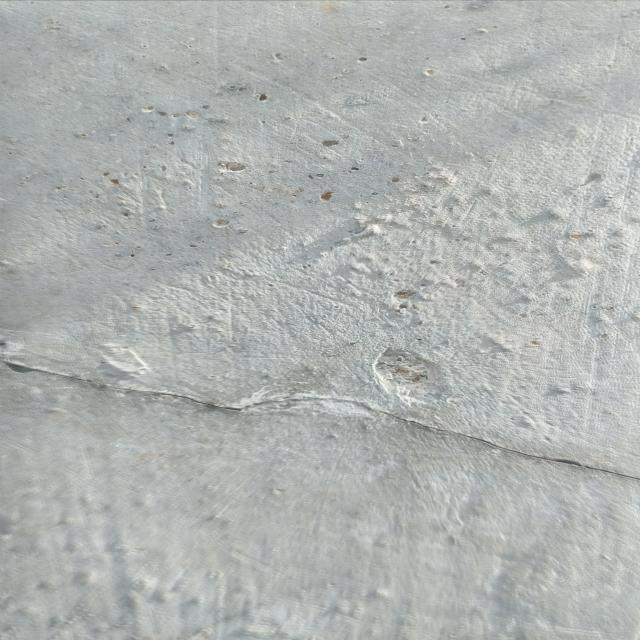Crack: (3, 355, 640, 487)
